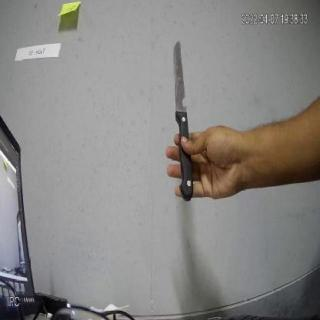knife: (167, 38, 205, 205)
